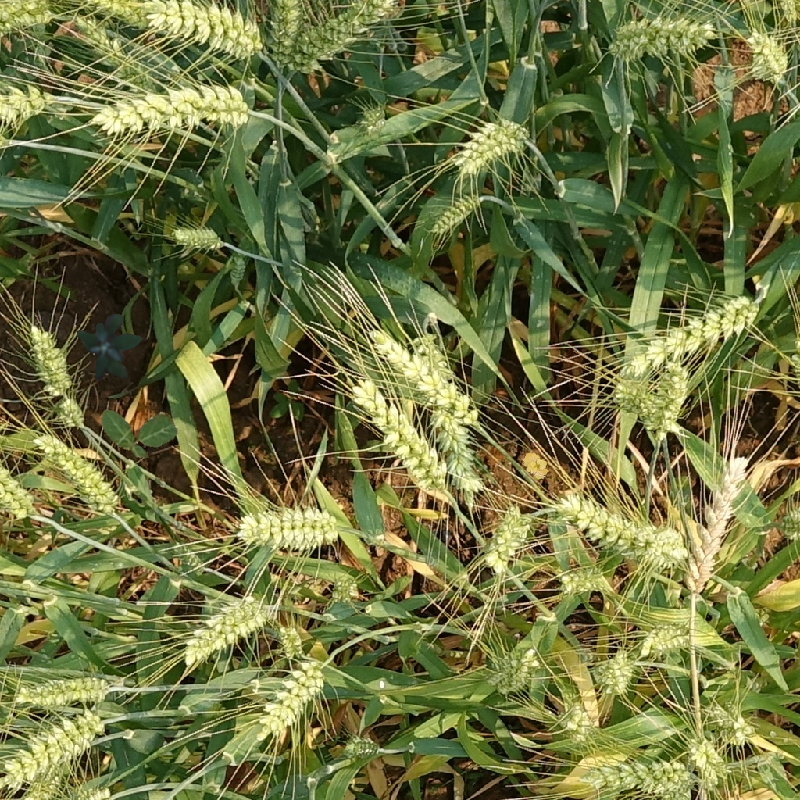spikelet: (348, 376, 449, 495), (621, 292, 759, 375), (89, 80, 255, 139), (553, 490, 681, 565), (1, 711, 106, 788), (365, 325, 449, 418), (290, 1, 400, 70), (34, 431, 123, 516), (179, 590, 275, 667), (140, 1, 264, 60), (69, 15, 167, 89), (411, 331, 481, 426), (253, 655, 328, 741), (698, 451, 751, 569), (577, 752, 696, 799), (605, 13, 715, 63), (235, 502, 342, 551), (449, 115, 530, 176), (430, 406, 484, 495), (12, 670, 121, 710), (642, 359, 691, 438), (482, 502, 534, 573), (26, 322, 72, 396), (265, 1, 309, 68), (699, 697, 757, 747), (489, 642, 542, 696), (745, 27, 791, 85), (1, 79, 52, 131), (59, 1, 153, 28), (686, 732, 731, 787), (428, 192, 483, 236), (637, 617, 696, 658), (593, 647, 637, 697), (643, 524, 691, 569), (555, 699, 599, 746), (1, 463, 37, 520), (557, 563, 611, 597), (17, 767, 69, 799), (1, 1, 55, 31), (169, 223, 224, 252), (170, 539, 209, 577), (275, 620, 309, 660), (341, 732, 383, 764), (354, 101, 390, 137), (610, 374, 648, 408), (52, 394, 86, 429), (328, 571, 361, 607), (774, 499, 800, 543), (227, 251, 247, 288)
weed: (92, 407, 180, 470), (77, 314, 142, 381), (522, 452, 550, 480)
